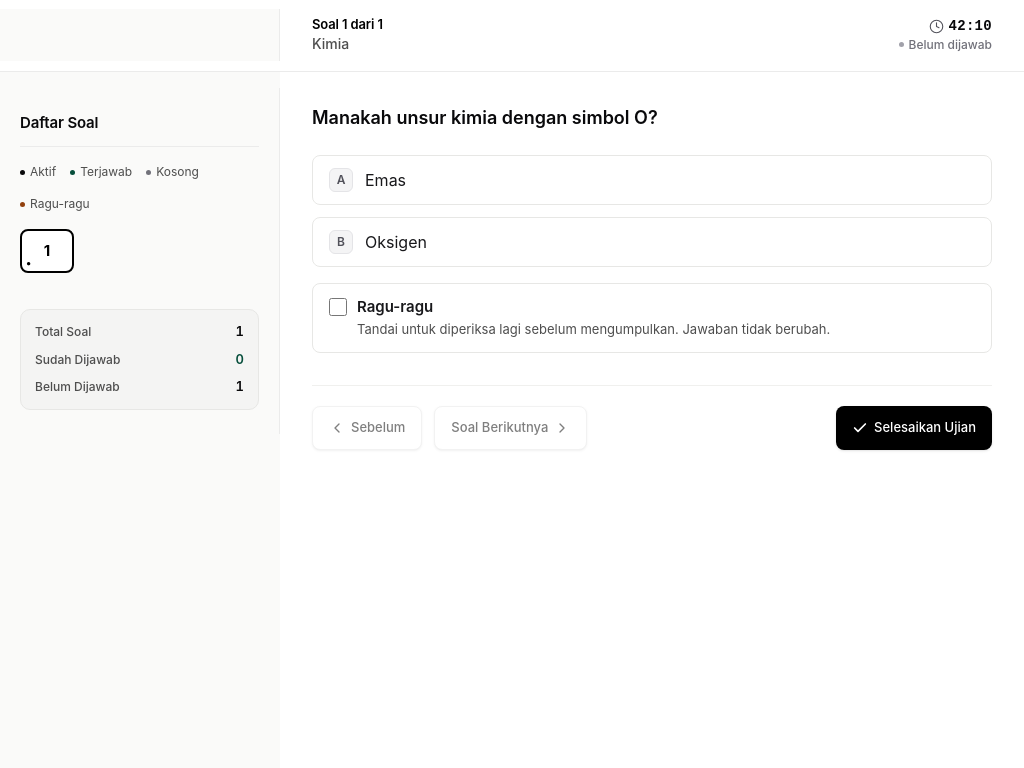
supervisor messages on the exam screen › shows a new message without taking the focus or stopping the answers, and keeps it to reread
Click the radio button labelled "B Oksigen": point(396, 242) [312,216,992,266]
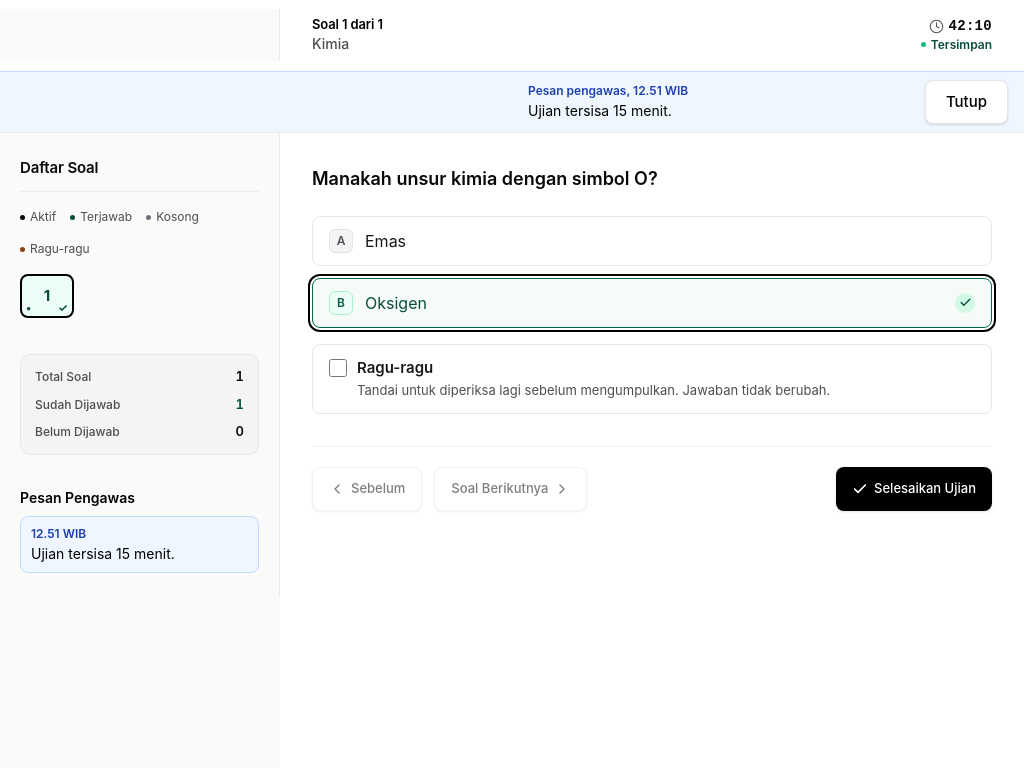
Check: the text "Pesan pengawas, 12.51 WIB" is shown, box [528,83,688,98]
# Answering goes on while the notice is shown.
Click the radio button labelled "A Emas": point(386, 241) [312,216,992,266]
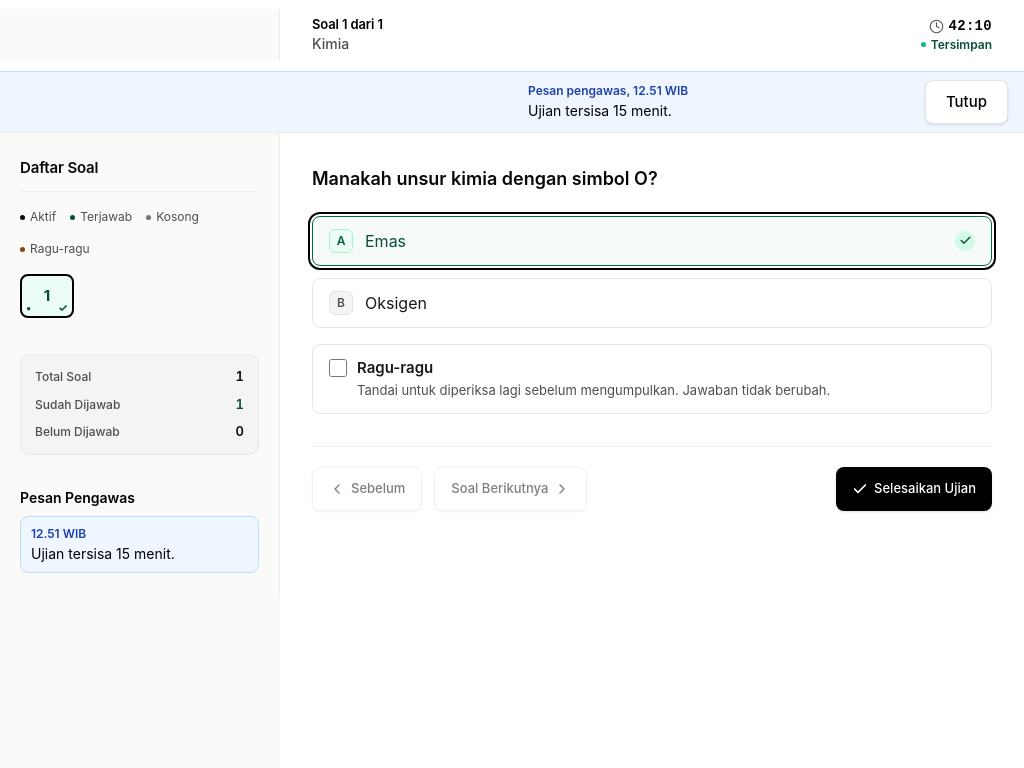
Check: the text "Tersimpan" is shown, box [931,37,992,52]
Check: the text "Ujian tersisa 15 menit." below "Belum Dijawab" is shown, box [31,545,175,562]
Click the button "Tutup": point(966, 102) [925,80,1008,124]
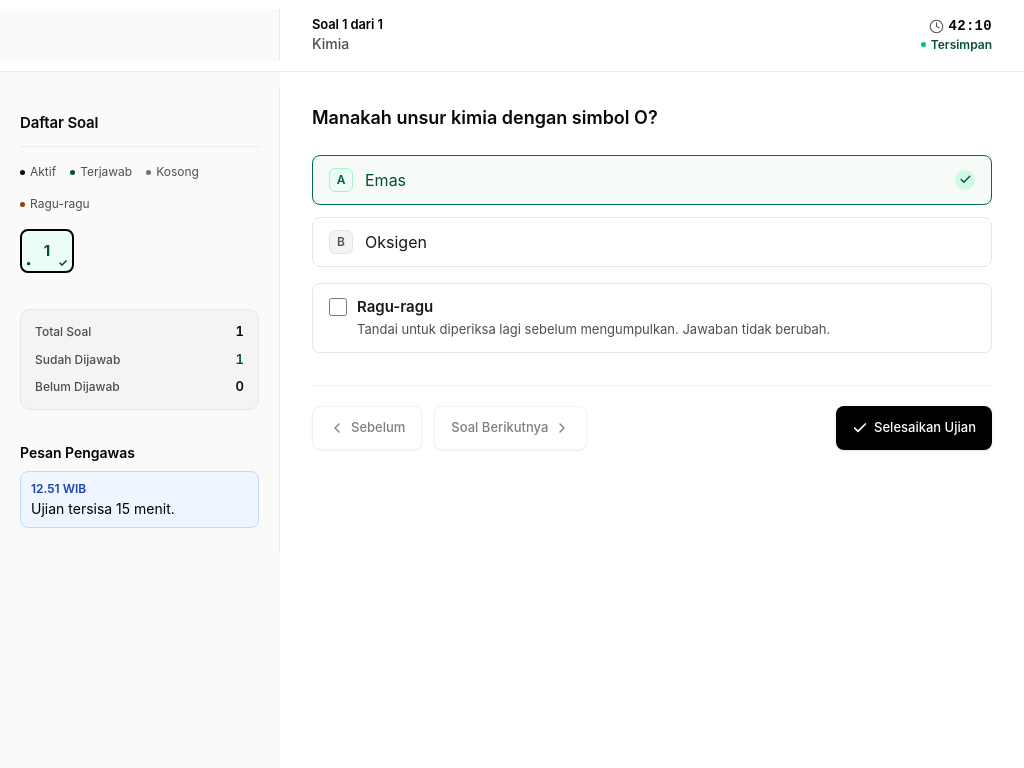
Check: the text "Ujian tersisa 15 menit." is shown, box [31,500,175,517]
Check: the message with class "broadcast-banner" is gone
